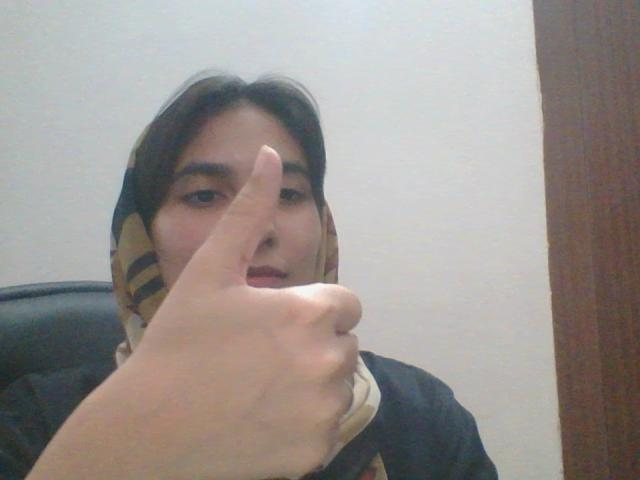thumbs-up: (166, 144, 366, 479)
